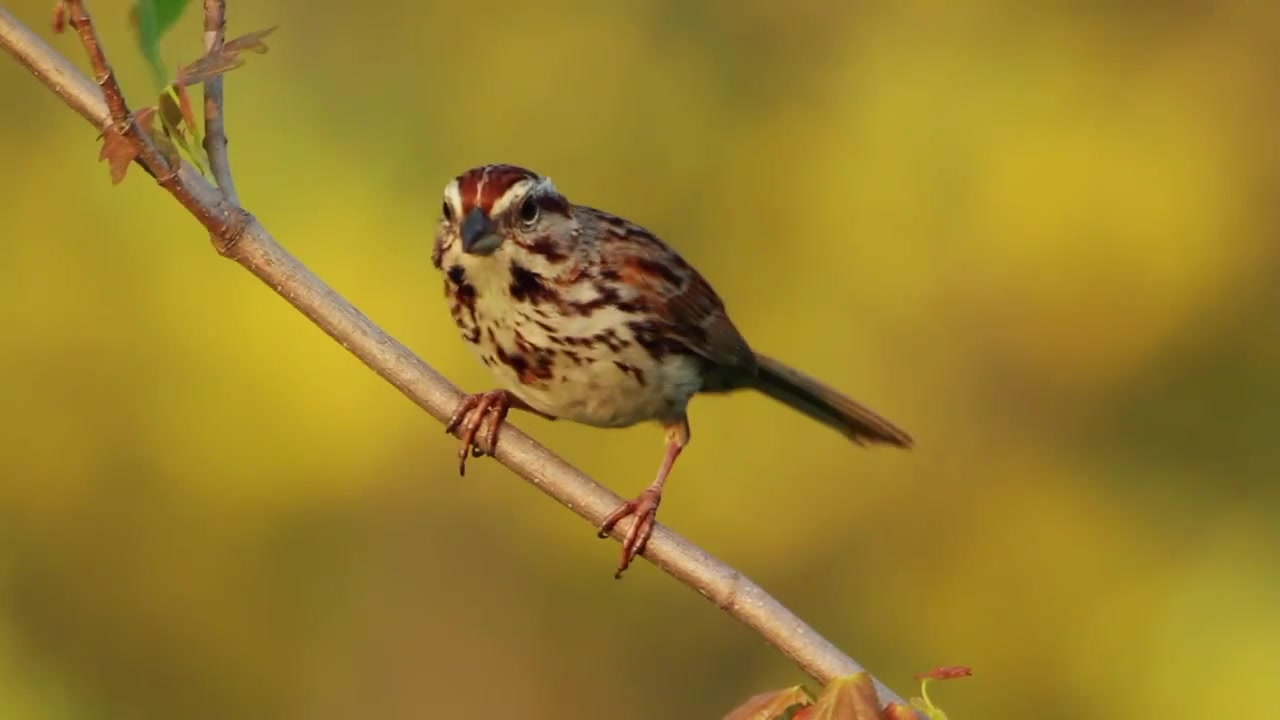bird: (430, 164, 917, 585)
